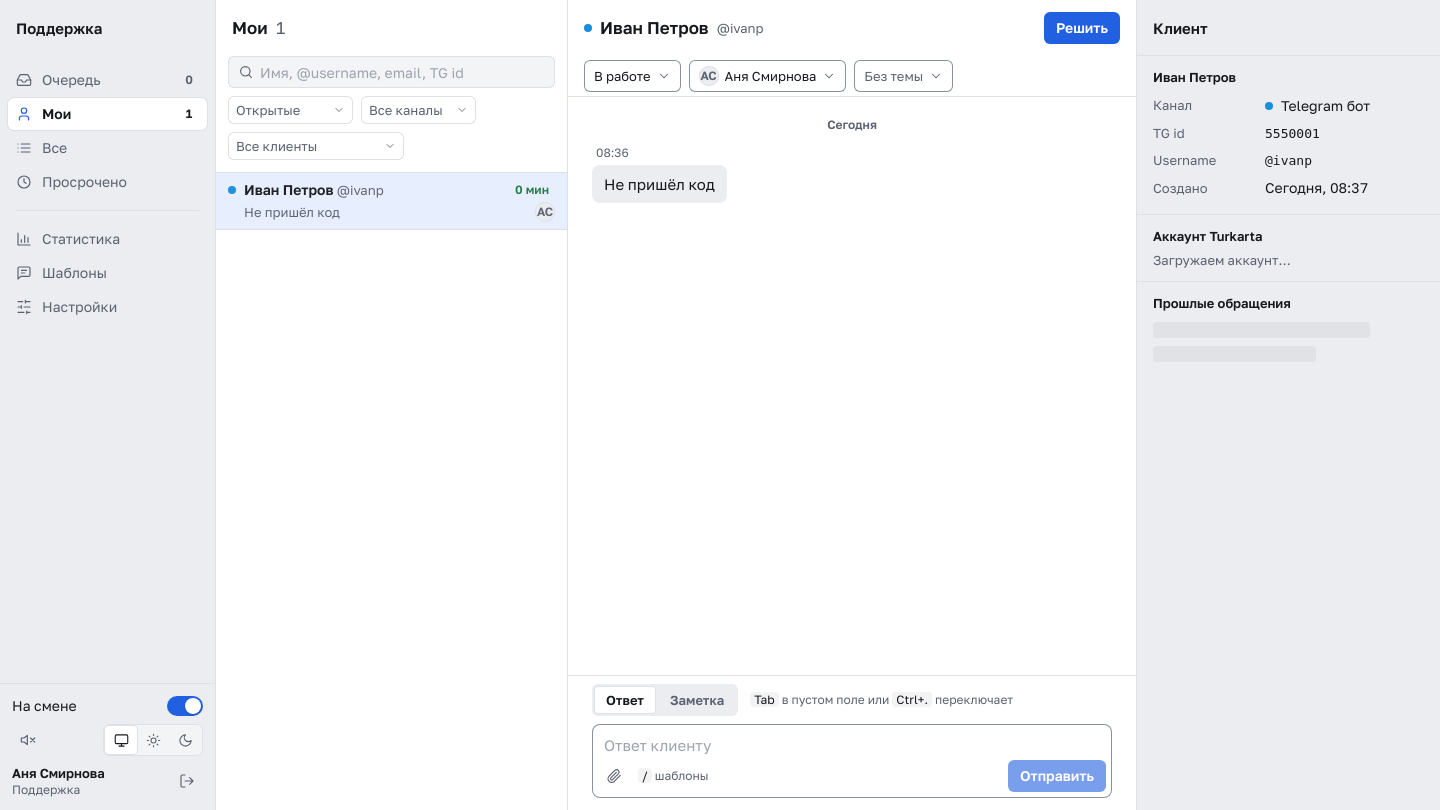
Scenario: Thread header topic menu › offers active topics only, picks one optimistically and POSTs its id
This screenshot has width=1440, height=810.
Click the button with aria-label "Тема: Без темы" at (904, 76), box [854, 60, 953, 92]
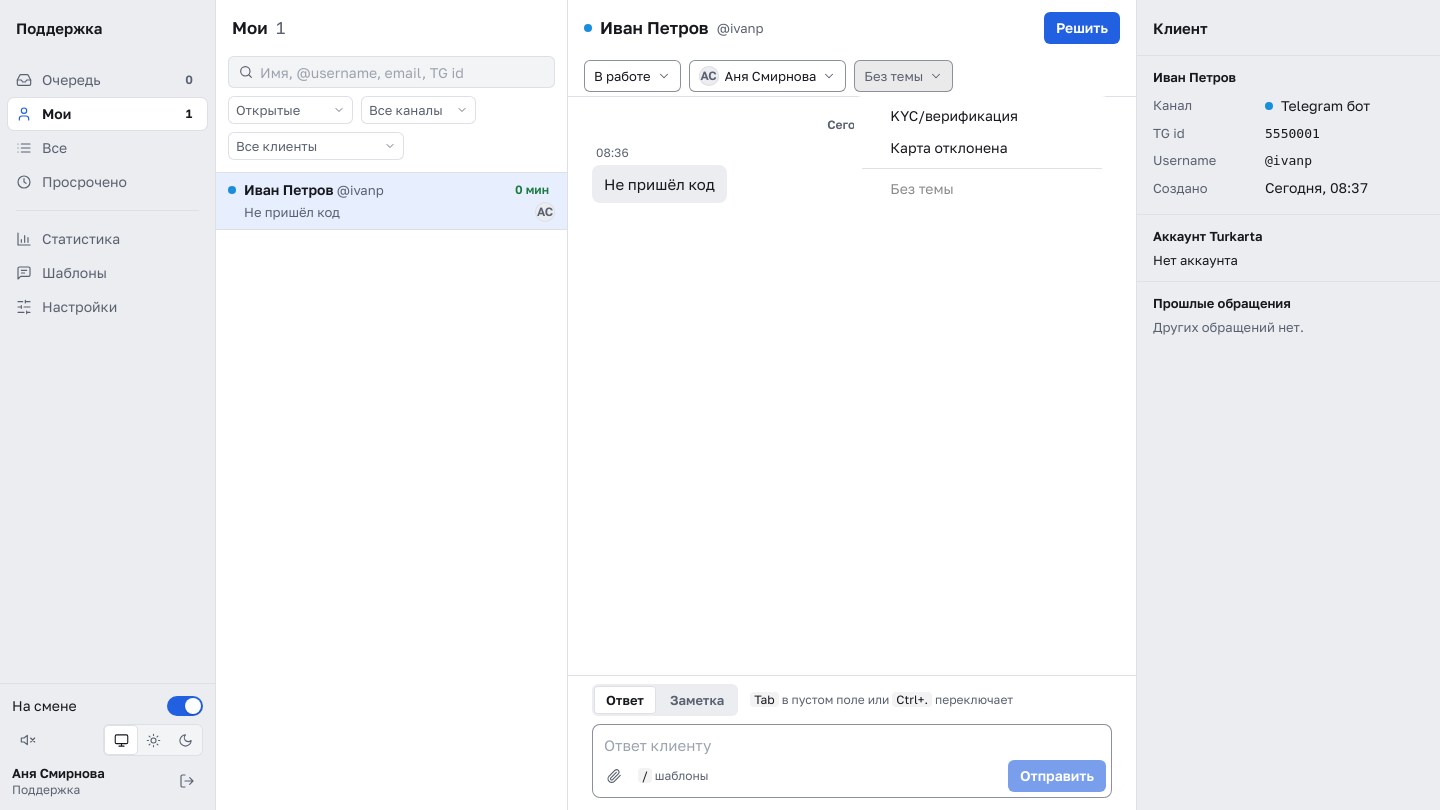
Click the menu item "Карта отклонена" at (982, 148), box [858, 132, 1106, 164]
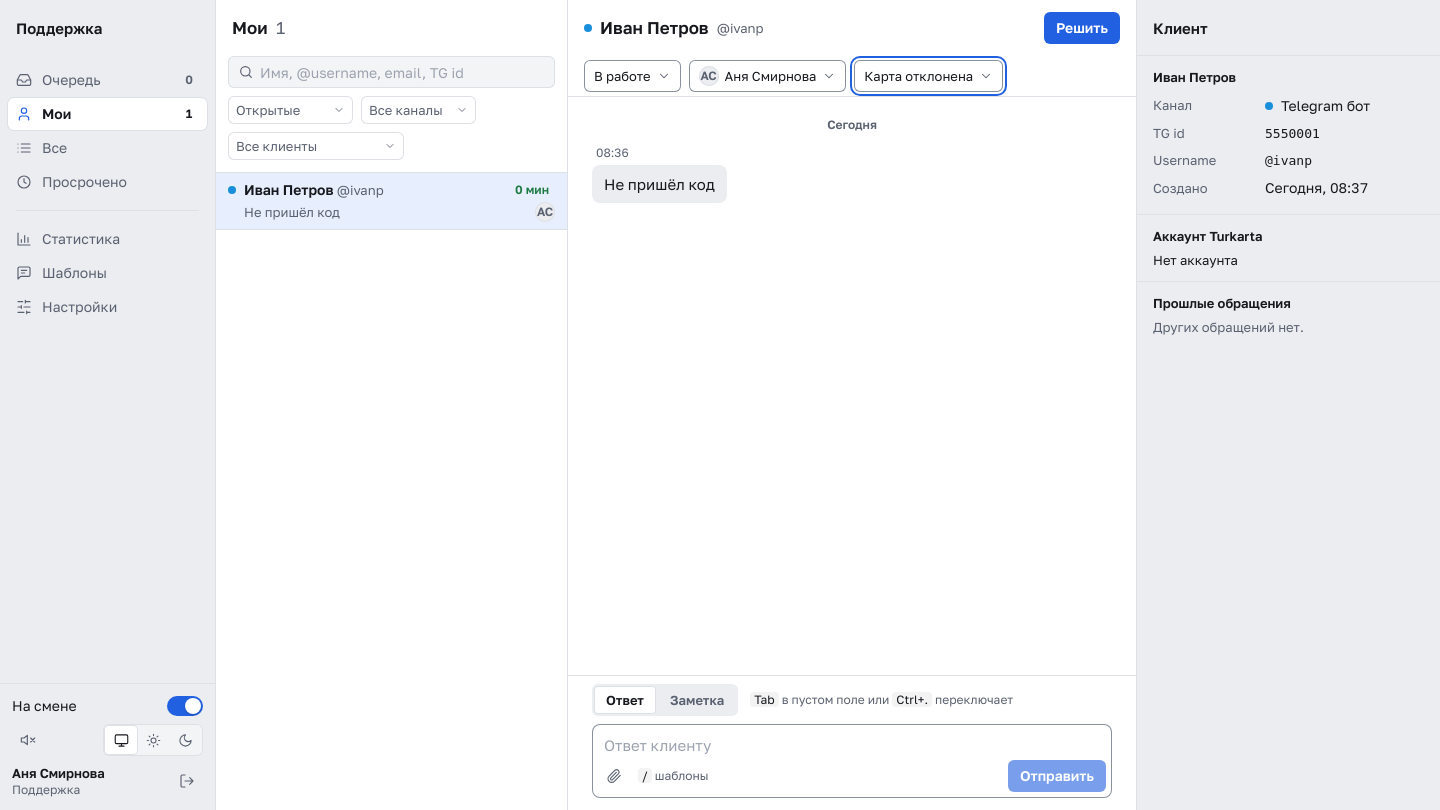
expect the button with aria-label "Тема: Карта отклонена" is shown: met, box [854, 60, 1003, 92]
